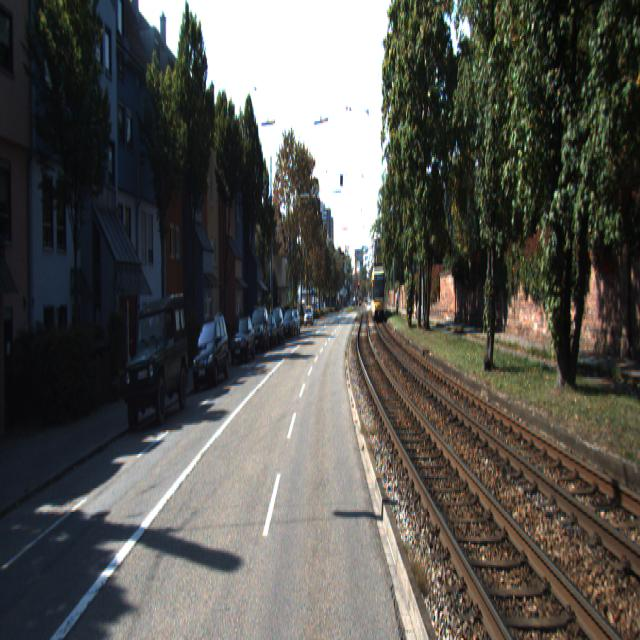Car: (124, 289, 190, 433), (192, 316, 230, 396), (229, 315, 256, 366), (249, 302, 269, 353), (371, 267, 386, 324)
